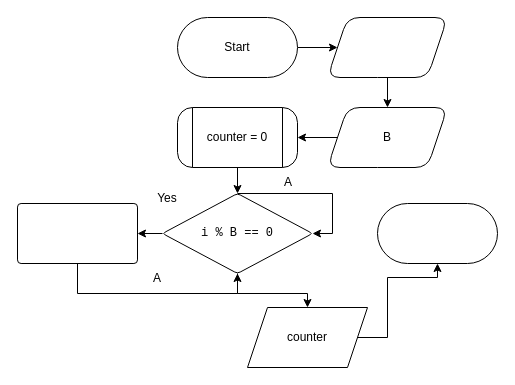
The diagram is 515 pixels wide and 385 high, and some of its shapes have lost their labels. The centre of each missing label's shape, as x and y in pixels:
A[::-1]: (x=387, y=47)
counter+=1: (x=77, y=233)
End: (x=437, y=233)
